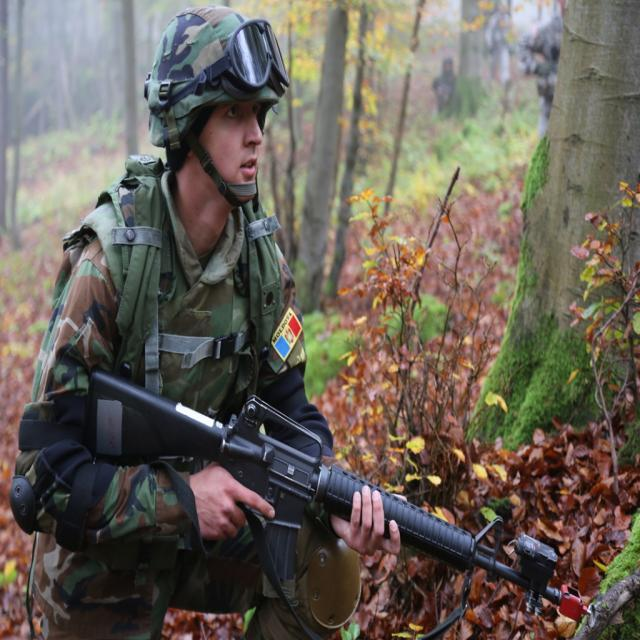weapon: (18, 308, 580, 606)
